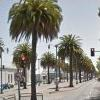Palm tree: (6, 2, 80, 81)
